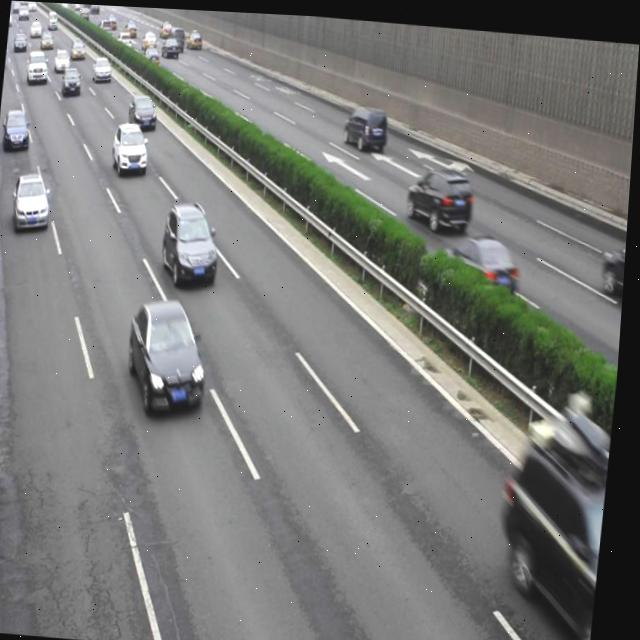car: (503, 412, 617, 634), (128, 294, 217, 419), (441, 226, 524, 300), (162, 197, 226, 288), (405, 158, 477, 228), (13, 170, 55, 234), (341, 97, 391, 150), (112, 119, 152, 175), (3, 105, 34, 154), (127, 90, 161, 133)
